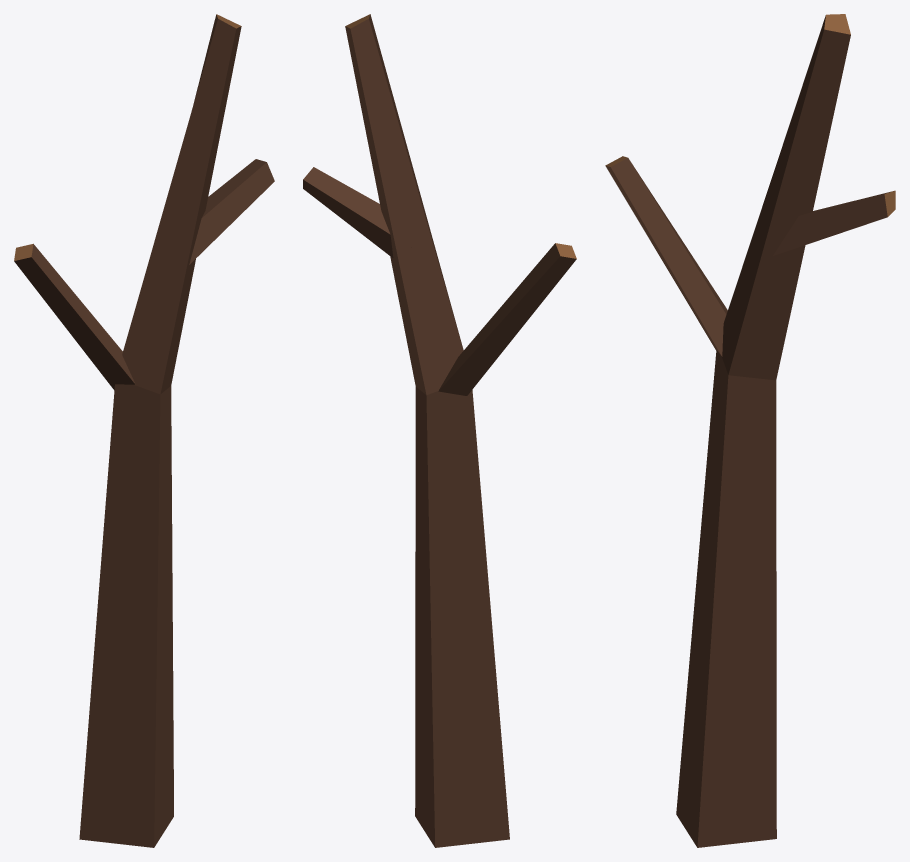
The model's file is TB_D_Env_DeadTreeC_B.FBX.
The picture shows the model from 3 angles, left to right: view 1: azimuth 30°, elevation 25°; view 2: azimuth 150°, elevation 25°; view 3: azimuth 330°, elevation 25°; orthographic projection. The views are drawn at different scales.
Parts seen in each view (by area): view 1: TB_D_Env_DeadTreeC_B; view 2: TB_D_Env_DeadTreeC_B; view 3: TB_D_Env_DeadTreeC_B.
Boxes of the visible parts, x1,y1,x2,y2 form: TB_D_Env_DeadTreeC_B: [14, 14, 274, 847]; TB_D_Env_DeadTreeC_B: [303, 14, 576, 847]; TB_D_Env_DeadTreeC_B: [605, 14, 895, 847].
Size of the model in its own units: 2.06 by 5.86 by 0.7393.
